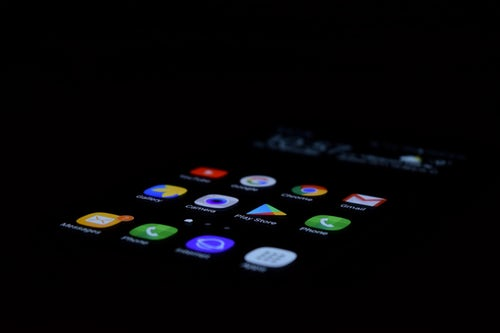phone: (51, 129, 475, 288)
